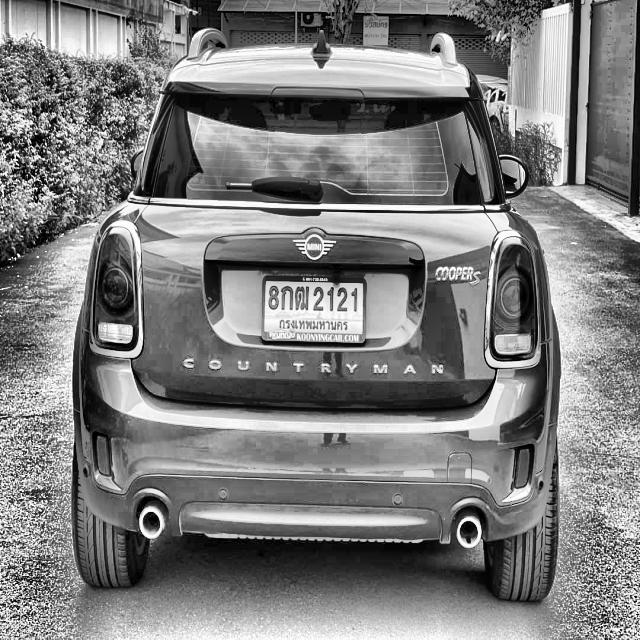license-plate: (261, 273, 370, 348)
